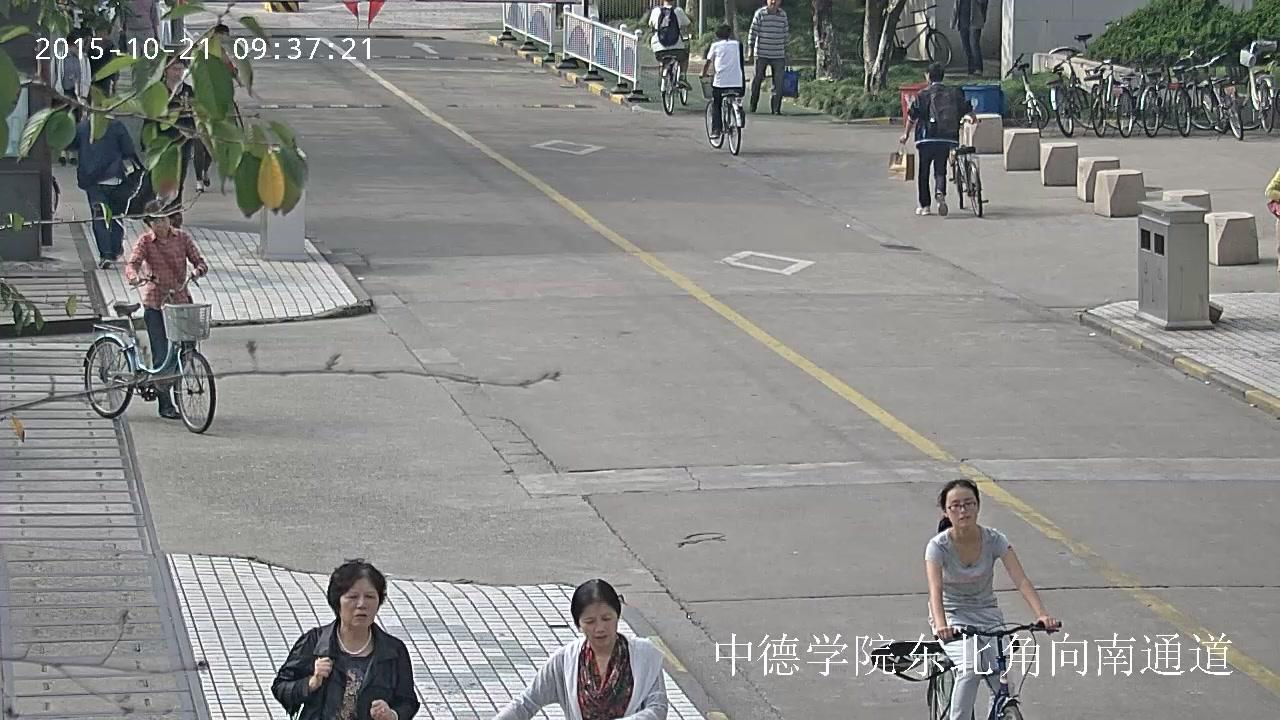person: (866, 477, 1061, 720), (922, 479, 1059, 720), (82, 198, 217, 435), (494, 577, 669, 720), (270, 557, 418, 720), (125, 199, 208, 418), (888, 62, 989, 217), (68, 95, 156, 269), (886, 62, 979, 216), (146, 53, 194, 204), (697, 25, 747, 155), (747, 0, 800, 115), (51, 24, 93, 163), (698, 25, 745, 139), (646, 0, 692, 115), (647, 0, 691, 92), (948, 0, 987, 75), (190, 101, 219, 192), (119, 0, 162, 60), (88, 20, 120, 98)
